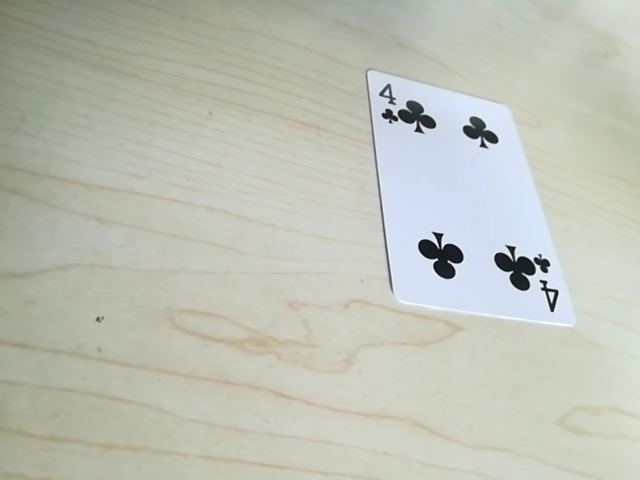mh 4: (372, 78, 497, 147), (513, 244, 559, 308)
